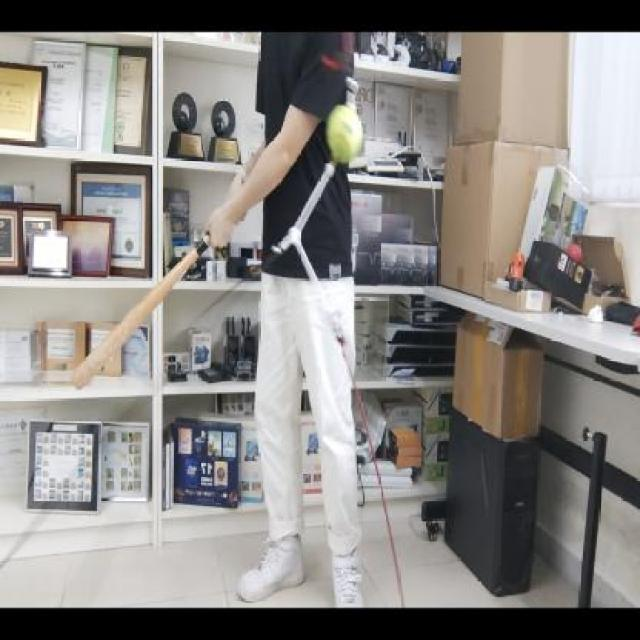baseball: (326, 98, 366, 160)
